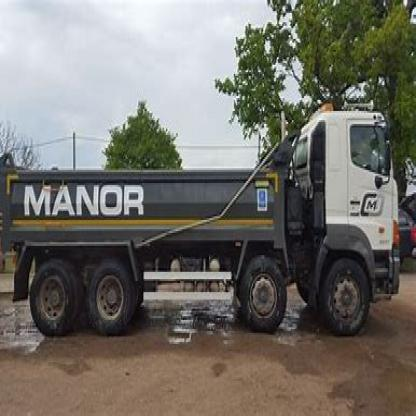dump_truck: (10, 74, 405, 353)
